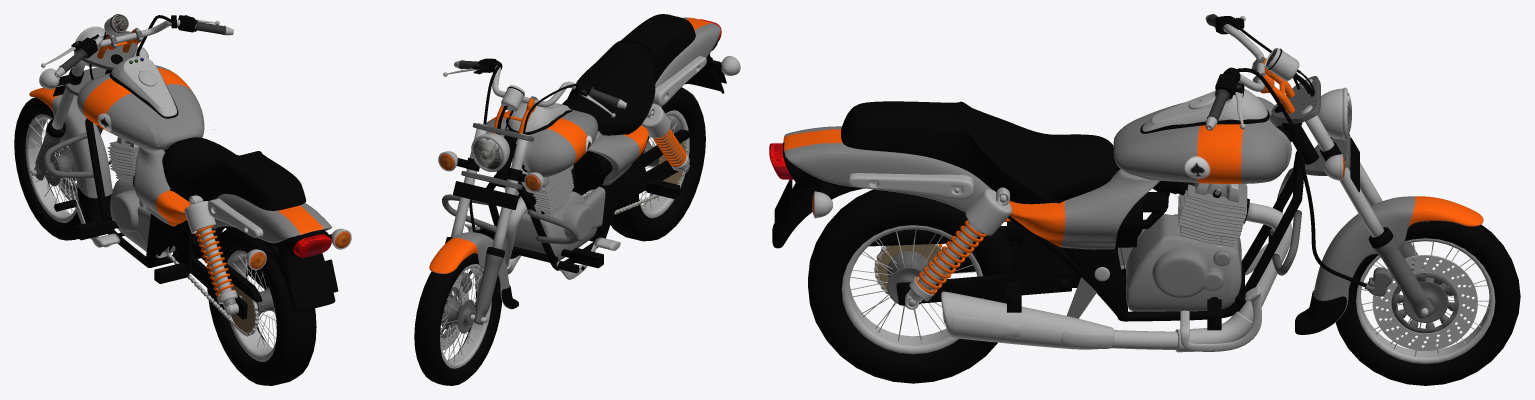
Rendered from bajaj_avenger_180cc_redux.glb.
3 views of the same model, side by side, from view 1: azimuth 30°, elevation 25°; view 2: azimuth 150°, elevation 25°; view 3: azimuth 270°, elevation 25° (orthographic). The views are drawn at different scales.
Visible parts, largest first — view 1: Object_62, Object_12, Cylinder.001_2870, Cylinder_2869, Object_89, Object_34, Object_4604, NurbsPath.002_2890, Object_5509, Object_4580, Object_4562, Object_5515 (+25 smaller); view 2: Object_62, Object_12, Cylinder_2869, Cylinder.001_2870, Object_89, Object_4360, Object_5509, NurbsPath.002_2890, Object_69, Object_10, Object_5774, Object_5507 (+26 smaller); view 3: Object_62, Object_12, Cylinder.001_2870, Cylinder_2869, Object_89, Object_4554, NurbsPath.002_2890, Object_118, Object_4360, Object_5515, Object_5509, Object_4534 (+31 smaller).
Part boxes in pixels (x1,y1,x2,y2): Object_62: (29,65,331,243); Object_12: (162,137,306,210); Cylinder.001_2870: (207,226,316,385); Cylinder_2869: (14,97,88,240); Object_89: (110,180,175,258); Object_34: (111,56,176,116); Object_4604: (184,195,238,315); NurbsPath.002_2890: (85,118,225,267); Object_5509: (25,114,78,222); Object_4580: (287,259,338,302); Object_4562: (261,229,335,311); Object_5515: (227,250,276,361); Object_62: (429,17,720,309); Object_12: (562,14,695,135); Cylinder_2869: (414,253,501,385); Cylinder.001_2870: (610,87,705,241); Object_89: (513,186,612,261); Object_4360: (504,163,574,216); Object_5509: (440,264,491,368); NurbsPath.002_2890: (486,161,634,270); Object_69: (442,194,578,244); Object_10: (573,151,612,189); Object_5774: (474,253,503,324); Object_5507: (453,181,518,209); Object_62: (783,96,1483,332); Object_12: (841,101,1117,204); Cylinder.001_2870: (808,189,1016,383); Cylinder_2869: (1335,221,1520,385); Object_89: (1118,214,1241,311); Object_4554: (941,291,1114,349); NurbsPath.002_2890: (1008,151,1305,321); Object_118: (1372,255,1477,350); Object_4360: (1178,184,1247,246); Object_5515: (841,225,983,354); Object_5509: (1356,238,1495,364); Object_4534: (1111,203,1292,349).
Bounding box in the file's own units: 2.1 × 2.19 × 4.43.
24 materials, 5 textured.
